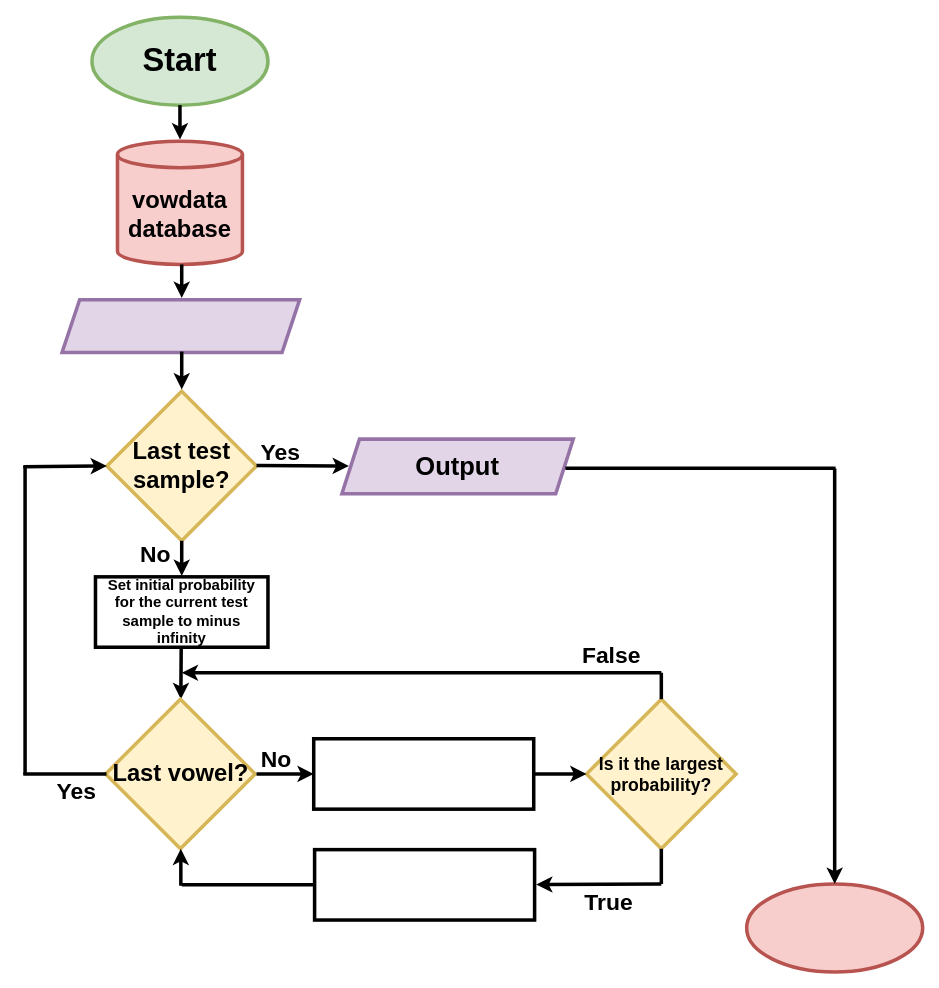
The diagram is 939 pixels wide and 988 high, and some of its shapes have lost their labels. The box of each missing label's shape, as (x1, y1, x2, y2) in pixels:
Compute the probability of the sample being the current vowel: (312, 737, 535, 810)
End: (744, 882, 924, 973)
Input: (60, 297, 301, 354)
Update the class the test sample belongs to: (312, 847, 536, 921)
